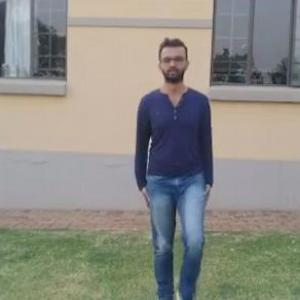follow: (136, 32, 218, 295)
